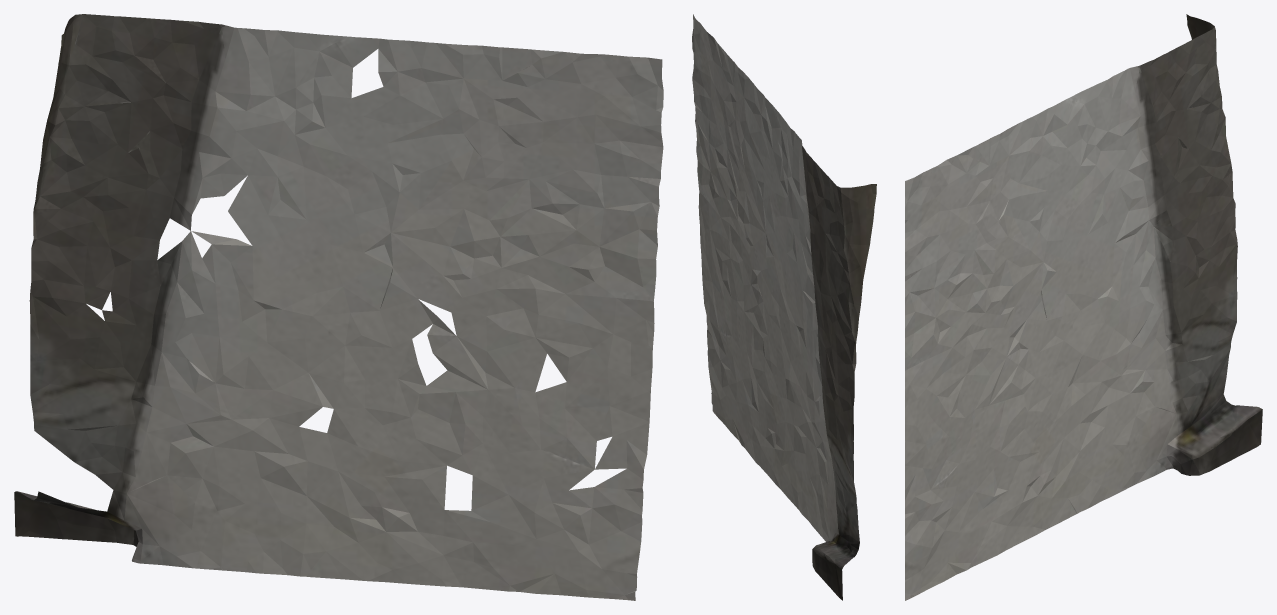
3 views of the same model, side by side, from view 1: azimuth 30°, elevation 25°; view 2: azimuth 150°, elevation 25°; view 3: azimuth 270°, elevation 25° (orthographic). The views are drawn at different scales.
Size of the model in its own units: 0.6995 by 0.8374 by 0.6307.
3 materials, 3 textured.
